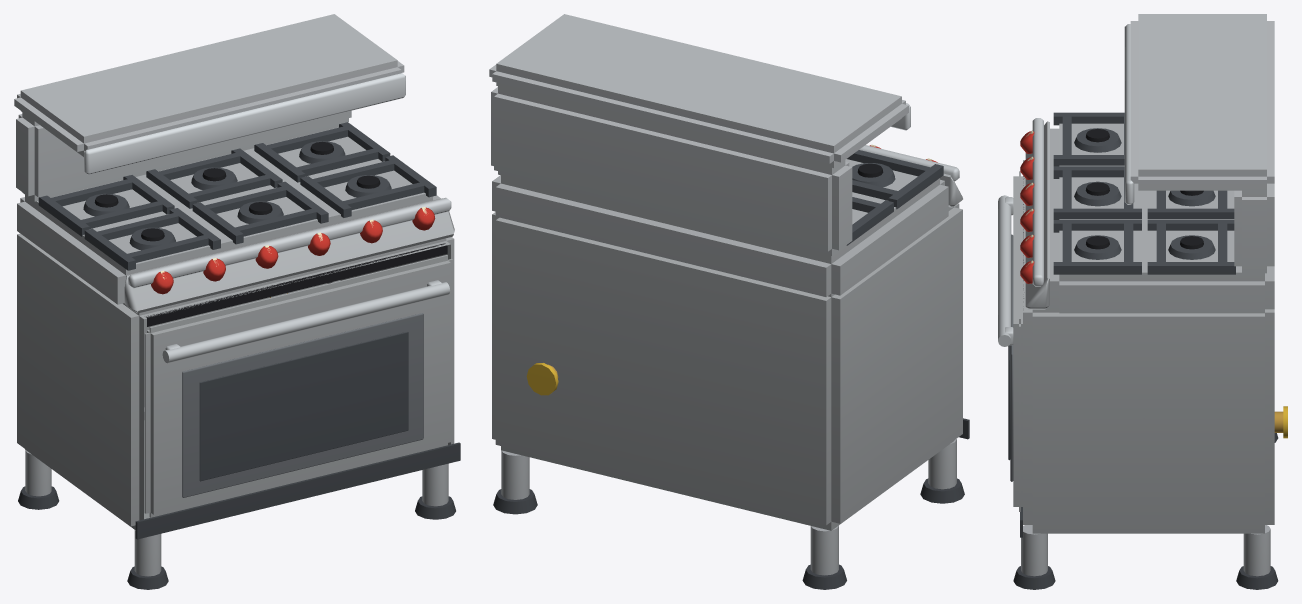
The model's file is SM_Range_Com_6Burner_10.glb.
3 views of the same model, side by side, from view 1: azimuth 30°, elevation 25°; view 2: azimuth 150°, elevation 25°; view 3: azimuth 270°, elevation 25° (orthographic). The views are drawn at different scales.
Parts seen in each view (by area): view 1: SM_Range_Com_6Burner_10; view 2: SM_Range_Com_6Burner_10; view 3: SM_Range_Com_6Burner_10.
Boxes of the visible parts, x1,y1,x2,y2 form: SM_Range_Com_6Burner_10: [14, 14, 460, 589]; SM_Range_Com_6Burner_10: [489, 14, 969, 589]; SM_Range_Com_6Burner_10: [998, 14, 1287, 589].
Bounding box in the file's own units: 1 × 1.2 × 0.755.
Materials: 1 (1 with a texture image).
